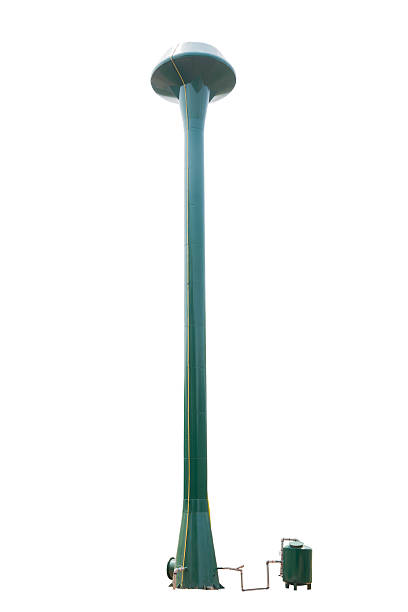light_pole: (180, 91, 211, 582)
